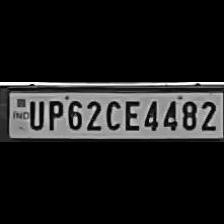2: (197, 97, 217, 131), (84, 97, 103, 131)
4: (142, 97, 160, 130), (160, 97, 178, 130)
6: (64, 97, 82, 130)
8: (179, 97, 197, 130)
C: (103, 97, 120, 131)
E: (120, 97, 140, 131)
P: (43, 97, 62, 131)
U: (25, 97, 43, 130)
